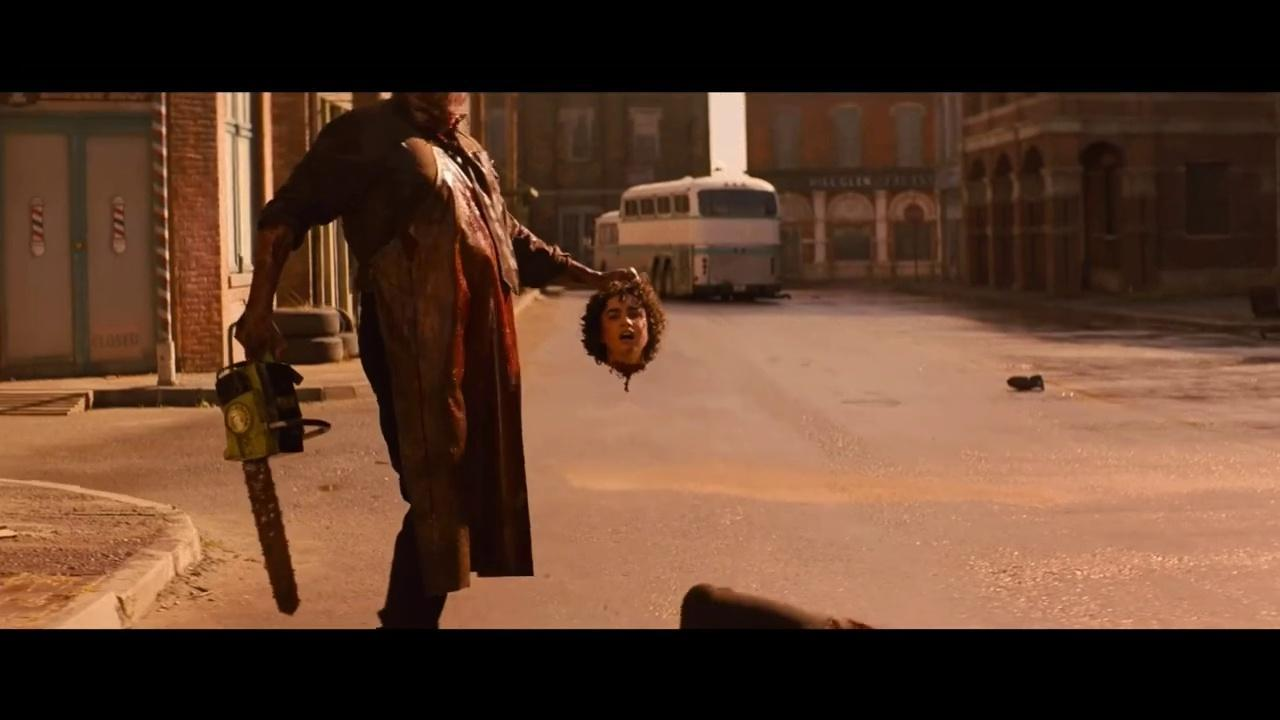Fire: (416, 146, 533, 593), (238, 459, 302, 622), (245, 237, 292, 340), (388, 90, 469, 139), (600, 362, 648, 398)
